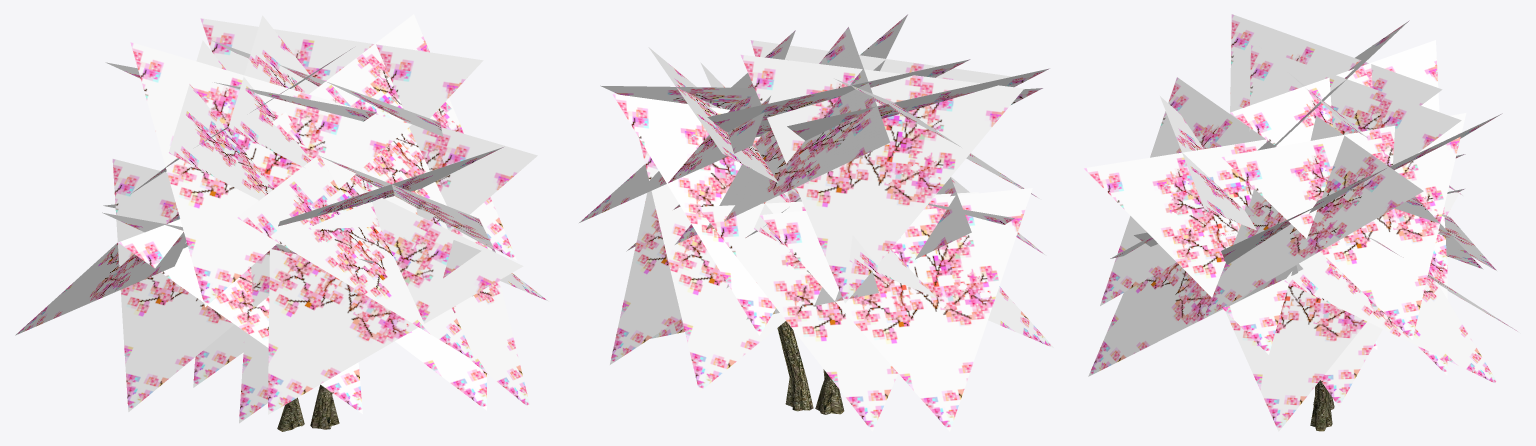
Rendered from flora_tree_cherry_blossom_v4.glb.
3 renders of one model, left to right at view 1: azimuth 30°, elevation 25°; view 2: azimuth 150°, elevation 25°; view 3: azimuth 270°, elevation 25°, orthographic. The views are drawn at different scales.
Parts seen in each view (by area): view 1: flora_tree_cherry_blossom_v4_part1, flora_tree_cherry_blossom_v4_part0; view 2: flora_tree_cherry_blossom_v4_part1, flora_tree_cherry_blossom_v4_part0; view 3: flora_tree_cherry_blossom_v4_part1, flora_tree_cherry_blossom_v4_part0.
Boxes of the visible parts, box(x1,y1,x2,y2) form: flora_tree_cherry_blossom_v4_part1: box(15, 14, 548, 423); flora_tree_cherry_blossom_v4_part0: box(277, 384, 339, 431); flora_tree_cherry_blossom_v4_part1: box(579, 14, 1053, 431); flora_tree_cherry_blossom_v4_part0: box(777, 321, 844, 414); flora_tree_cherry_blossom_v4_part1: box(1084, 14, 1517, 431); flora_tree_cherry_blossom_v4_part0: box(1310, 380, 1334, 431).
Bounding box in the file's own units: 18.43 × 15.53 × 18.
Materials: 2 (2 with a texture image).
